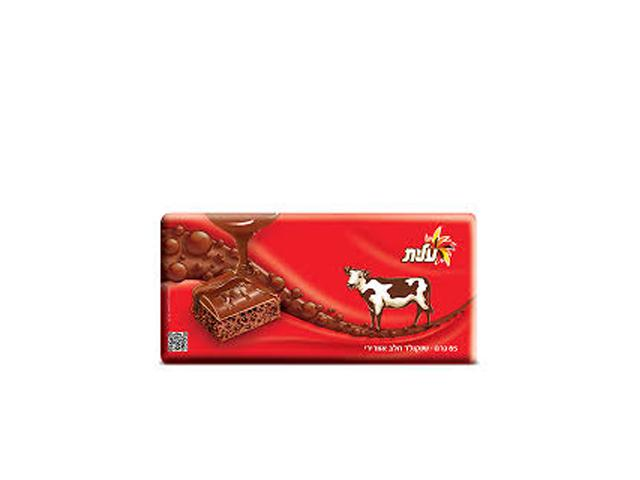chocolate: (150, 206, 486, 380)
